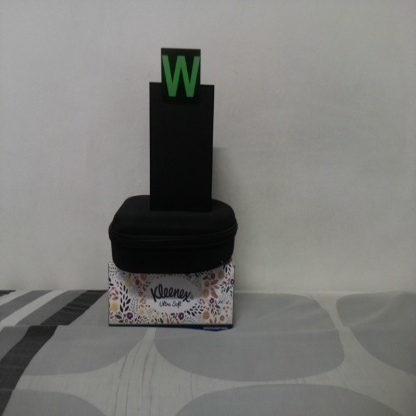id_12: (160, 48, 202, 107)
